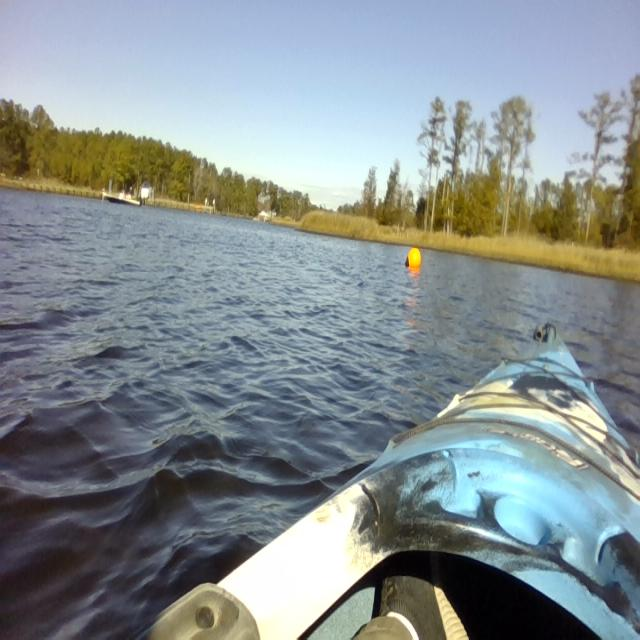Buoy: (404, 246, 424, 274)
